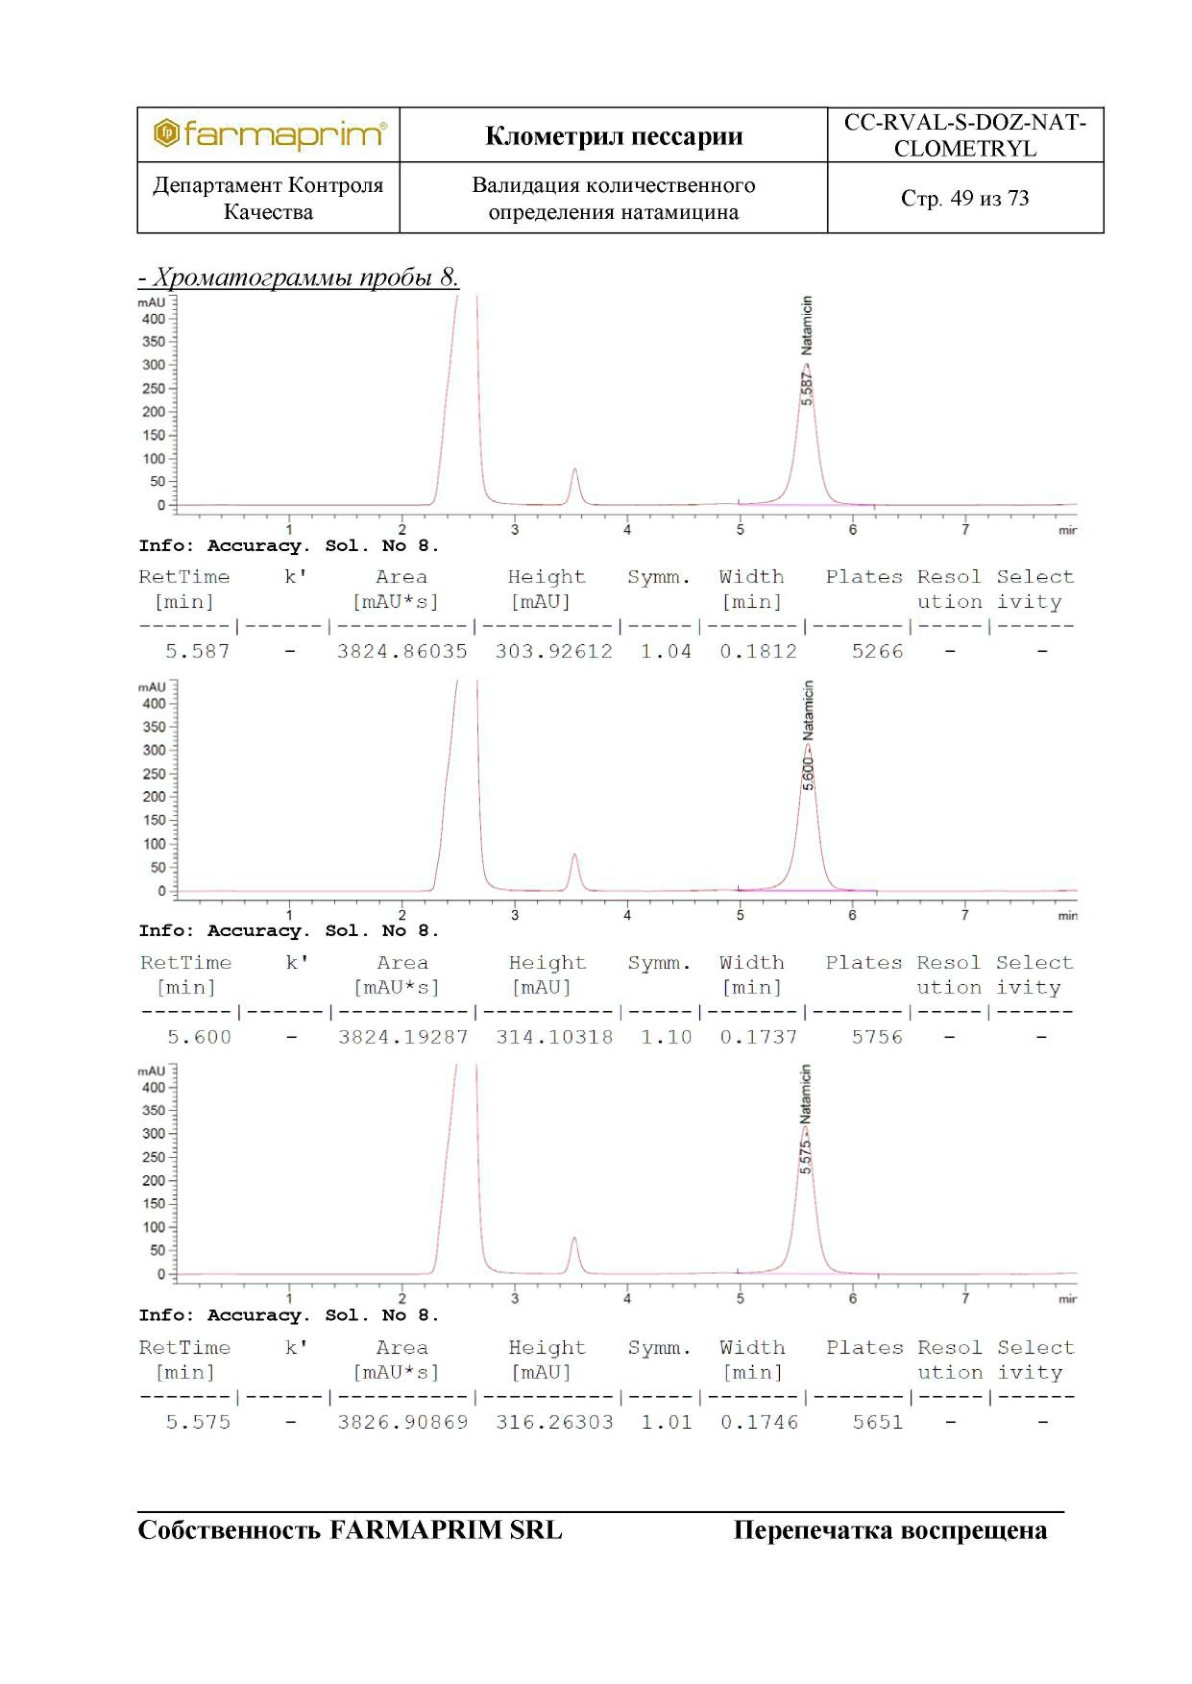full_lined: (134, 104, 1108, 236)
partial_lined: (134, 1333, 1081, 1442), (138, 950, 1075, 1055), (135, 563, 1081, 667)
